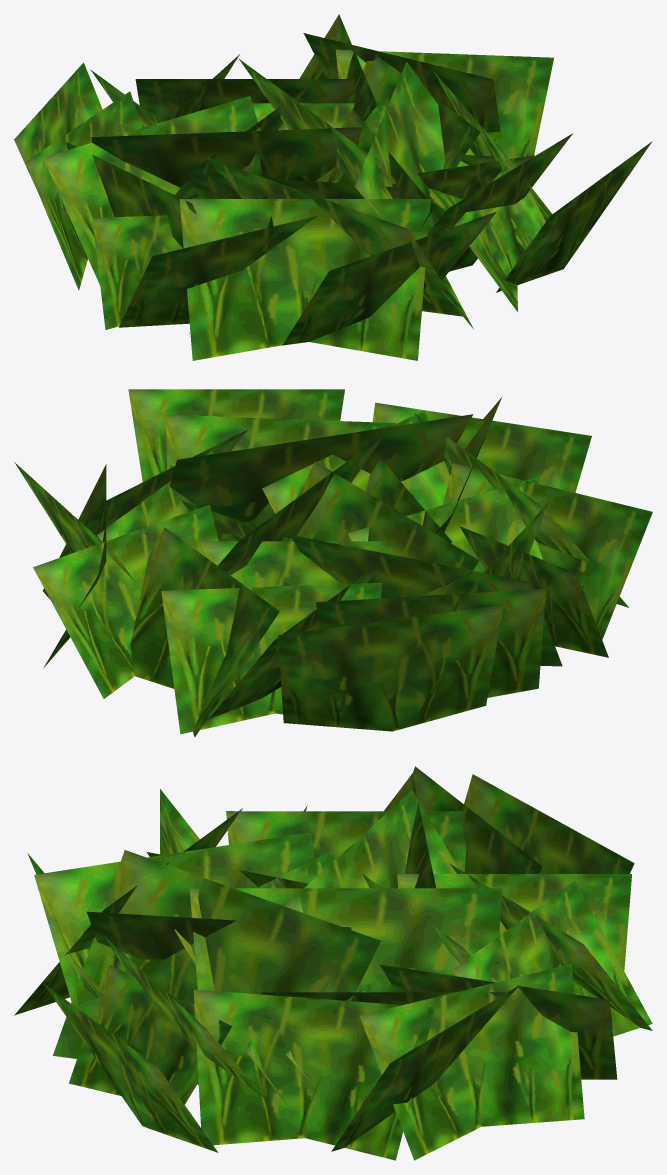
File: grass1_14.glb
3 renders of one model, top to bottom at view 1: azimuth 30°, elevation 25°; view 2: azimuth 150°, elevation 25°; view 3: azimuth 270°, elevation 25°, orthographic. The views are drawn at different scales.
Parts seen in each view (by area): view 1: grass1_14; view 2: grass1_14; view 3: grass1_14.
Boxes of the visible parts, x1,y1,x2,y2 form: grass1_14: [14, 14, 652, 360]; grass1_14: [14, 389, 652, 737]; grass1_14: [14, 766, 652, 1160].
Bounding box in the file's own units: 5.45 × 1.43 × 5.21.
Materials: 1 (1 with a texture image).
